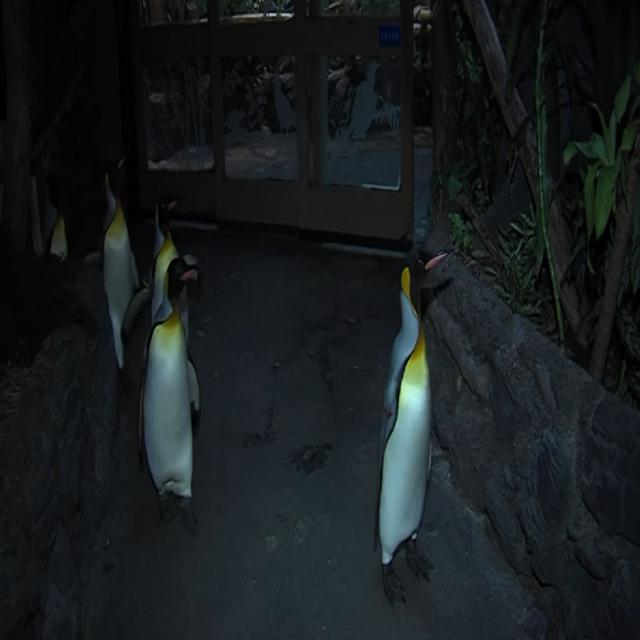Penguin: (368, 247, 442, 604), (132, 255, 212, 540), (144, 188, 194, 424), (96, 142, 141, 368)
